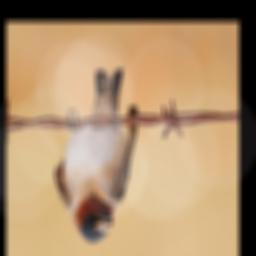Swallow: (54, 68, 138, 244)
